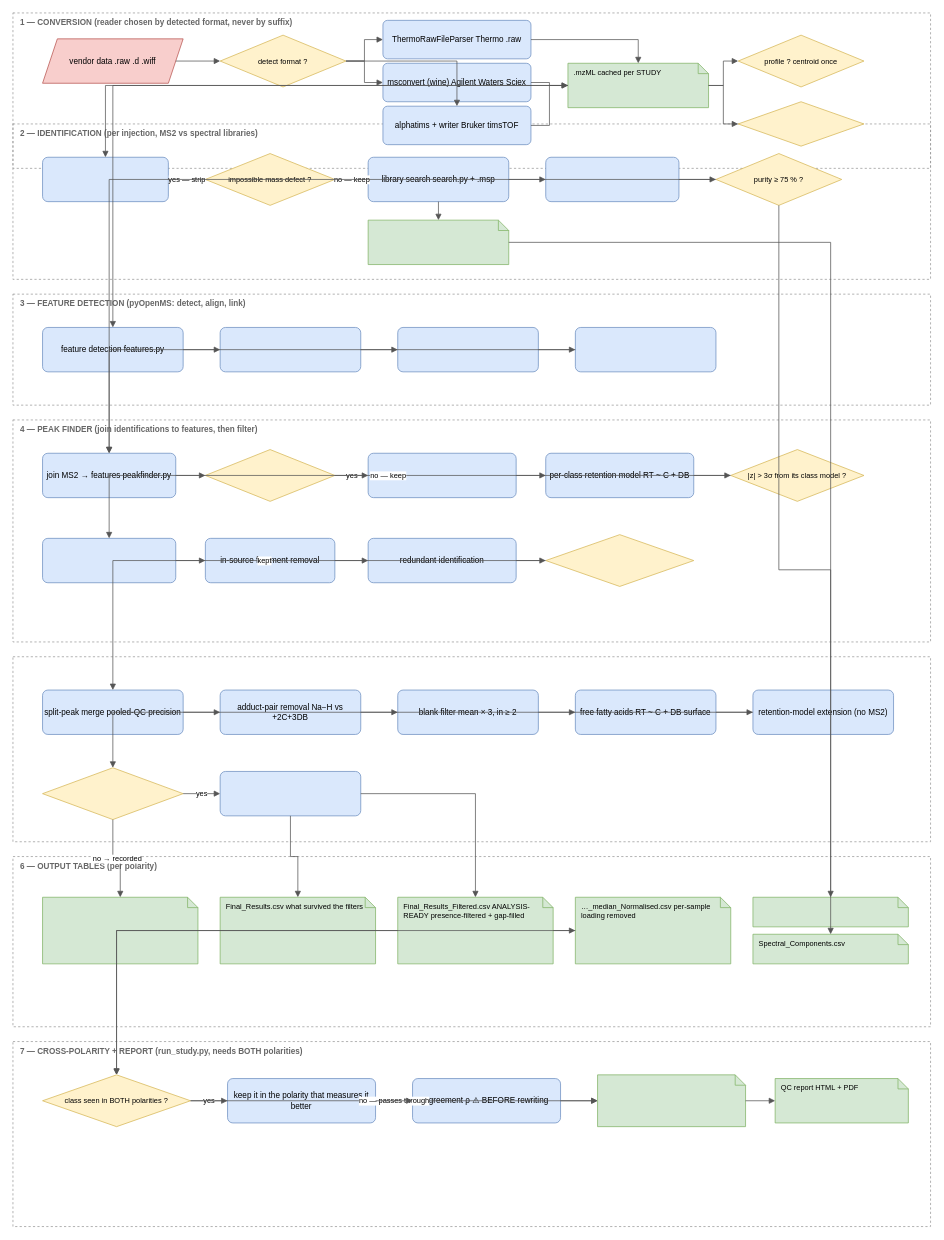
Some shapes in this 944 by 1240 pixel diagram are drawn without their labels. Each missing label, with the box of its shape:
5 — POST-FILTERS: (12, 656, 931, 842)
adduct / dimer / isotope sweep: (42, 538, 176, 583)
Associated_Spectra.csv: (752, 897, 908, 927)
class RT window (OFF — clips long chains): (545, 534, 694, 586)
Combined_Filtered_ Normalised.csv Mode + Scale + Agreement: (597, 1074, 746, 1127)
detected in ≥ 70 % of ANY one group ?: (42, 767, 183, 820)
dot ≥ 500 and rev dot ≥ 700 ?: (205, 449, 335, 501)
gap filling re-integrate the raw: (219, 771, 361, 816)
link across injections: (397, 327, 538, 372)
mass_offset_ppm applied to search: (545, 157, 679, 202)
MS2 scans read from mzML: (42, 157, 168, 202)
mzML newer than source ?: (737, 101, 864, 146)
name the row molecular OR sum: (367, 453, 516, 498)
noise floor measured, not assumed: (575, 327, 716, 372)
RT alignment LOESS per sample: (219, 327, 361, 372)
search/*.csv one per injection: (367, 219, 509, 265)
Unfiltered_Results.csv EVERY compound group + Filter Status = why it went: (42, 897, 198, 964)
